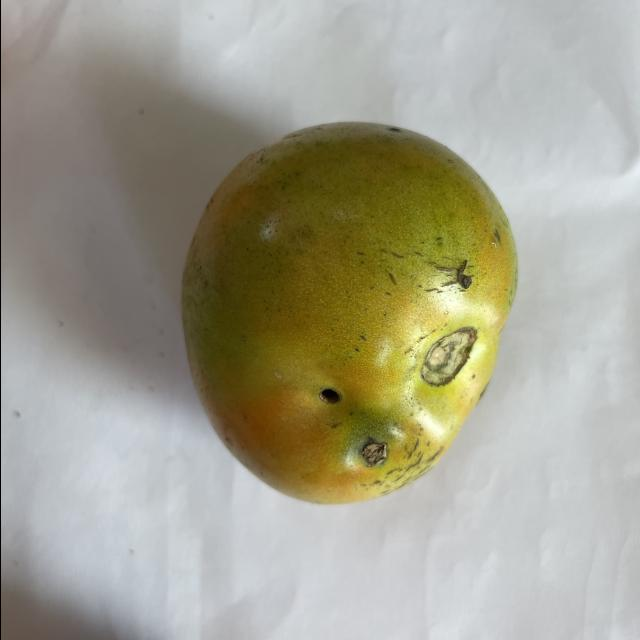fruitworm_bore: (311, 384, 393, 471)
